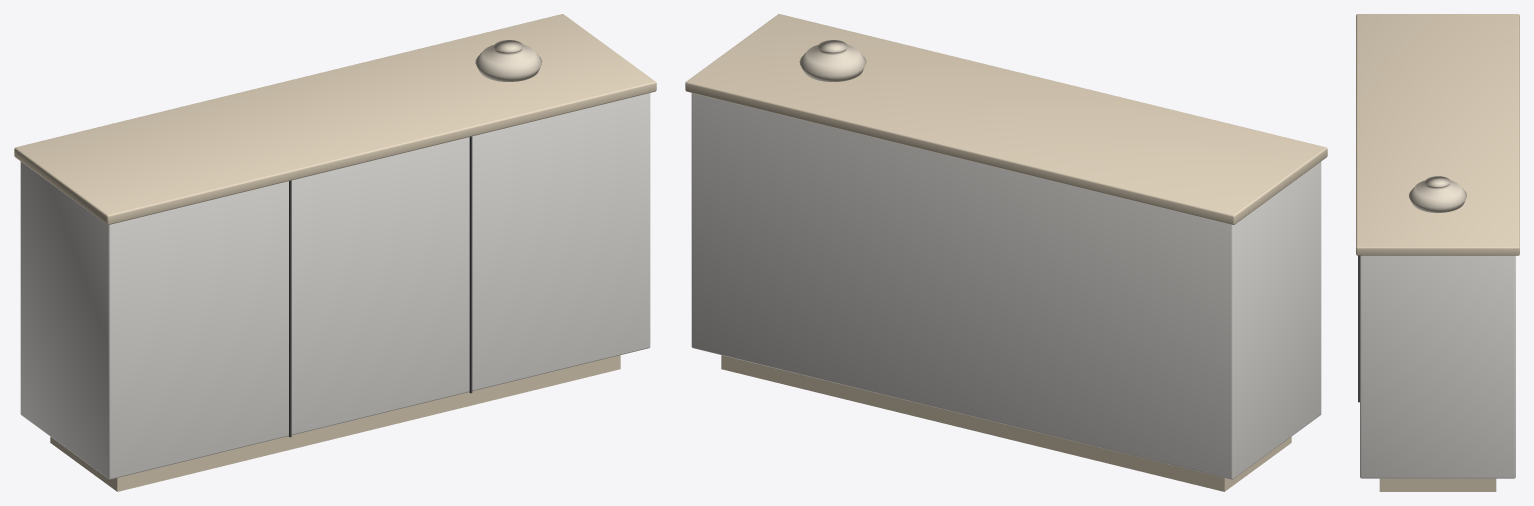
File: mo_console.glb
The picture shows the model from 3 angles, left to right: view 1: azimuth 30°, elevation 25°; view 2: azimuth 150°, elevation 25°; view 3: azimuth 270°, elevation 25°; orthographic projection. The views are drawn at different scales.
Visible parts, largest first — view 1: body, top, plinth, vase, gap2, gap1; view 2: body, top, plinth, vase; view 3: top, body, vase, plinth, gap2.
Part boxes in pixels (x1,y1,x2,y2): body: (20, 93, 650, 479); top: (14, 14, 656, 224); plinth: (50, 355, 620, 491); vase: (475, 40, 542, 81); gap2: (469, 136, 472, 393); gap1: (288, 180, 291, 437); body: (691, 93, 1321, 479); top: (685, 14, 1327, 224); plinth: (721, 355, 1291, 491); vase: (799, 40, 866, 81); top: (1356, 14, 1519, 255); body: (1360, 255, 1515, 478); vase: (1409, 176, 1466, 212); plinth: (1379, 478, 1496, 491); gap2: (1358, 255, 1359, 402).
Size of the model in its own units: 1.42 by 0.785 by 0.42.
